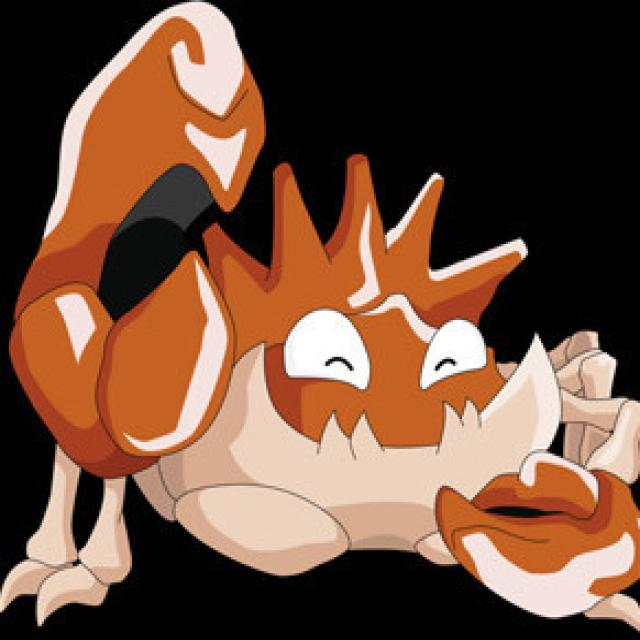Kingler: (6, 2, 640, 632)
